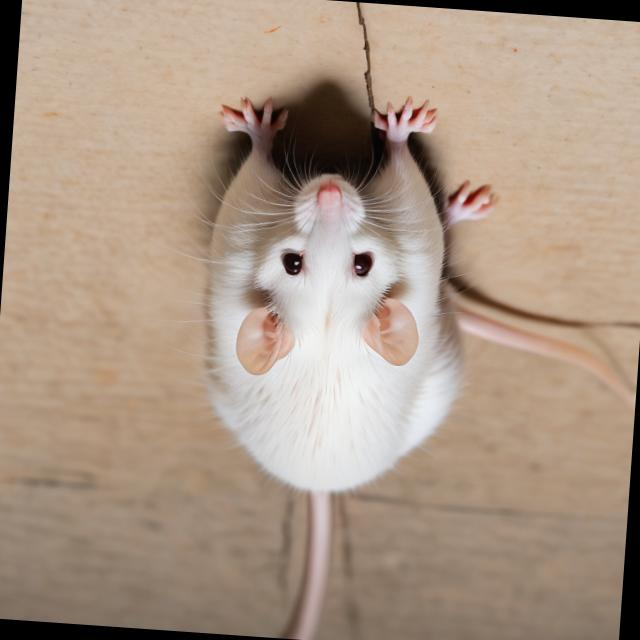rodents: (172, 121, 474, 510)
